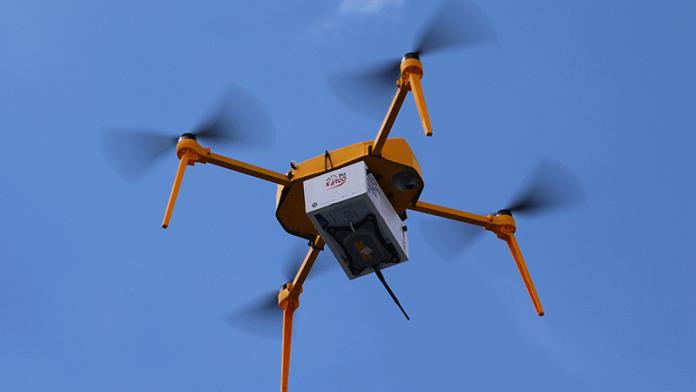drone: (153, 34, 593, 323)
